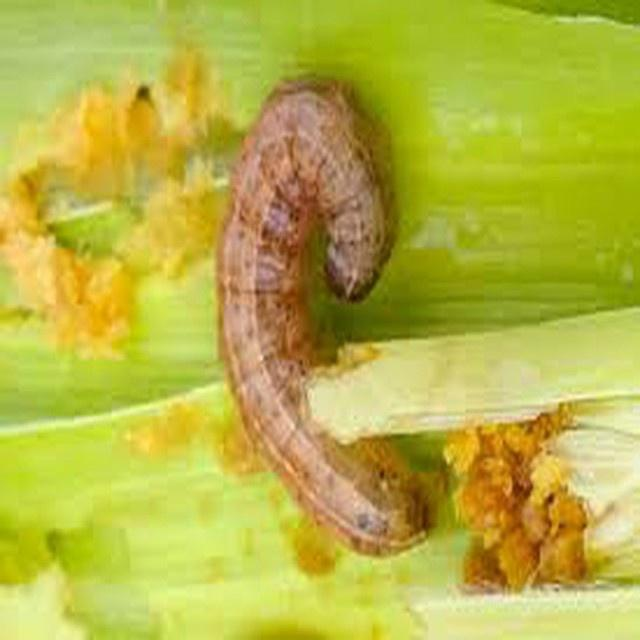gusano_cogollero: (220, 76, 430, 556)
